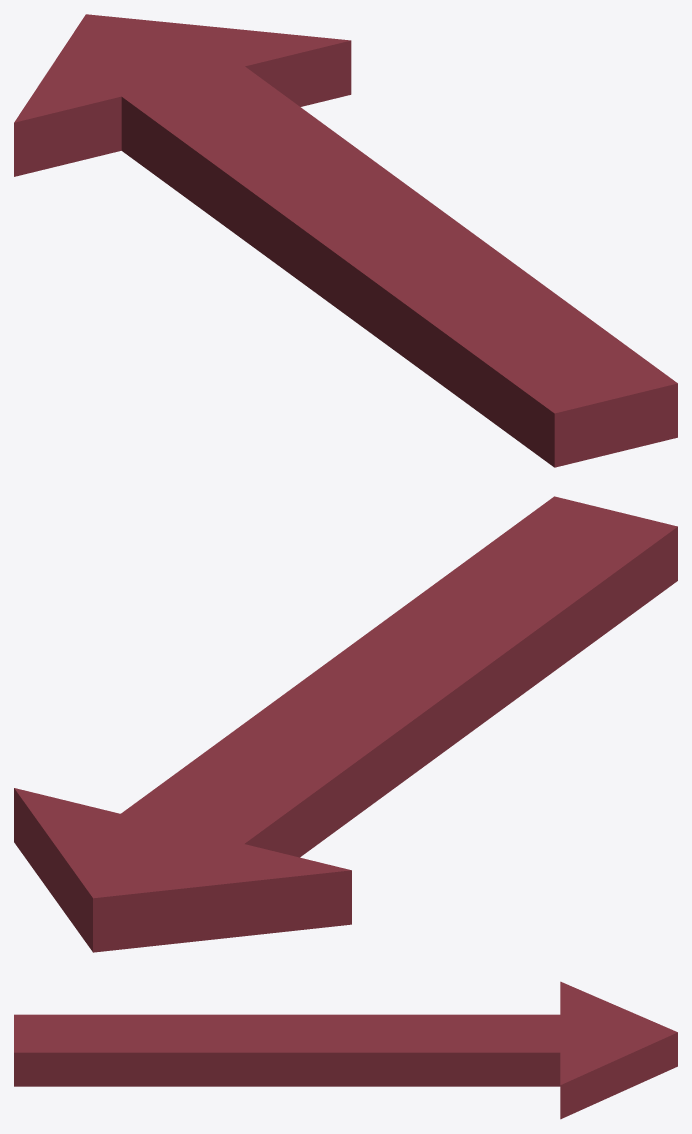
The model's file is Arrow.gltf.
3 renders of one model, top to bottom at view 1: azimuth 30°, elevation 25°; view 2: azimuth 150°, elevation 25°; view 3: azimuth 270°, elevation 25°, orthographic. The views are drawn at different scales.
Parts seen in each view (by area): view 1: Arrow; view 2: Arrow; view 3: Arrow.
Boxes of the visible parts, x1=… form: Arrow: x1=14, y1=14, x2=677, y2=467; Arrow: x1=14, y1=496, x2=677, y2=952; Arrow: x1=14, y1=981, x2=677, y2=1119.
Bounding box in the file's own units: 1.46 × 0.2242 × 3.94.
